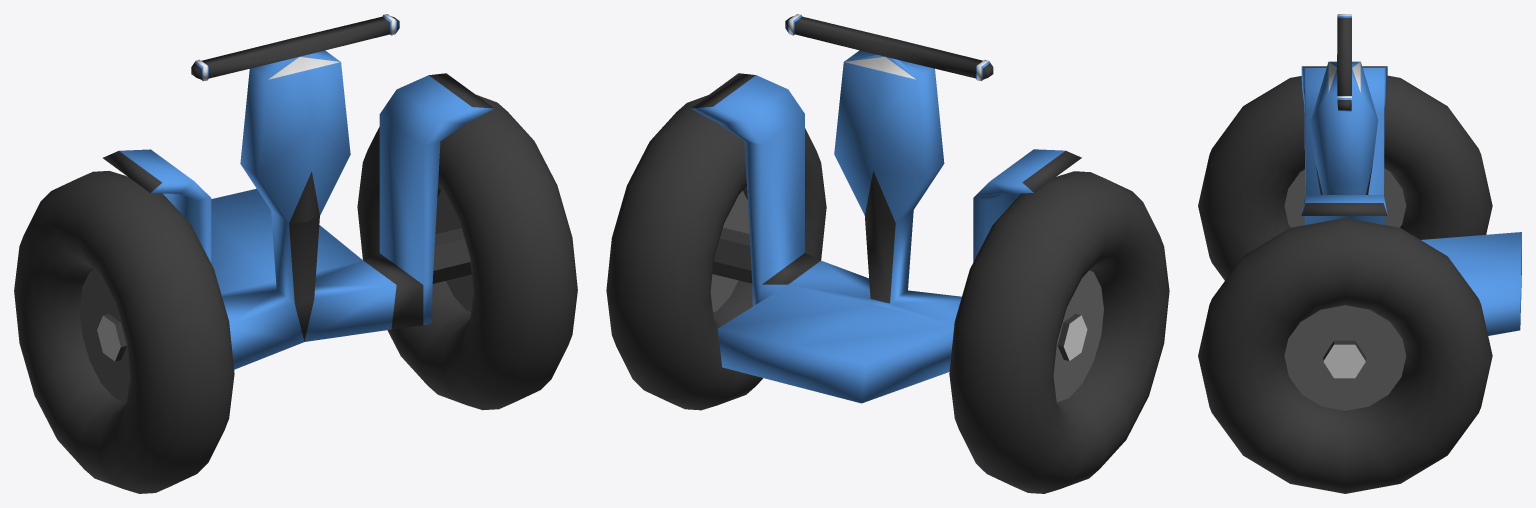
Rendered from unibalance.fbx.
3 views of the same model, side by side, from view 1: azimuth 30°, elevation 25°; view 2: azimuth 150°, elevation 25°; view 3: azimuth 270°, elevation 25° (orthographic). The views are drawn at different scales.
Parts seen in each view (by area): view 1: Body, L_Wheel, R_Wheel; view 2: Body, L_Wheel, R_Wheel; view 3: R_Wheel, L_Wheel, Body.
Part boxes in pixels (box(x1,y1,x2,y2)): Body: box(103, 14, 494, 369); L_Wheel: box(14, 171, 234, 493); R_Wheel: box(357, 94, 577, 410); Body: box(690, 14, 1081, 403); L_Wheel: box(949, 171, 1169, 493); R_Wheel: box(606, 95, 826, 410); R_Wheel: box(1198, 218, 1492, 493); L_Wheel: box(1198, 75, 1492, 280); Body: box(1301, 14, 1521, 335).
Bounding box in the file's own units: 358 × 315 × 258.
